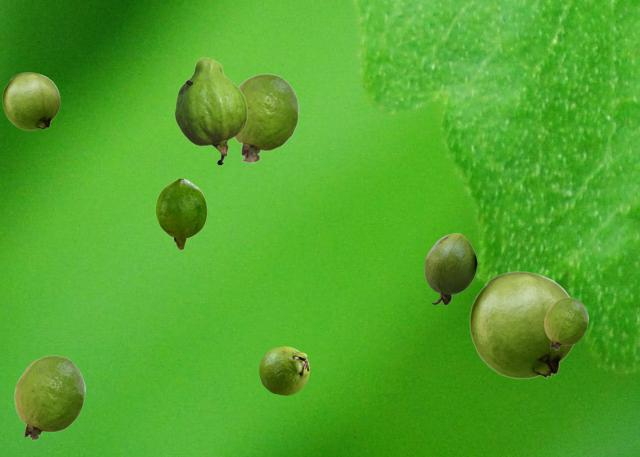guava: (469, 271, 574, 378), (174, 57, 246, 164), (14, 355, 84, 439), (234, 73, 298, 162), (424, 233, 476, 304), (155, 178, 206, 249), (2, 72, 59, 129), (259, 346, 308, 394), (544, 297, 587, 349)
